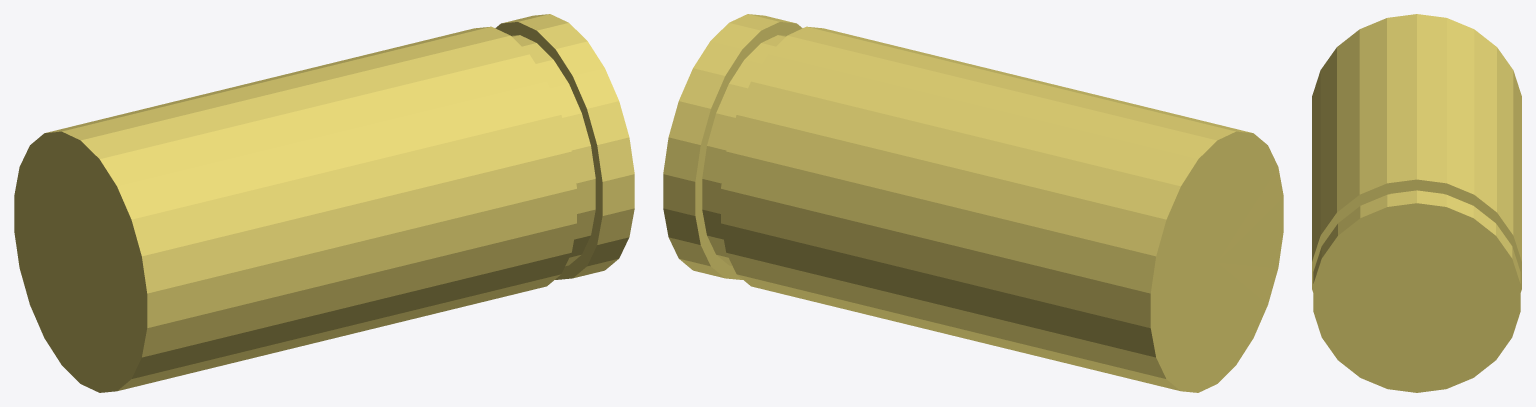
File: 9mm_Casing.fbx
3 renders of one model, left to right at view 1: azimuth 30°, elevation 25°; view 2: azimuth 150°, elevation 25°; view 3: azimuth 270°, elevation 25°, orthographic. The views are drawn at different scales.
Visible parts, largest first — view 1: Ninemm_Casing; view 2: Ninemm_Casing; view 3: Ninemm_Casing.
Part boxes in pixels (bbox=[...]): Ninemm_Casing: bbox=[14, 14, 634, 392]; Ninemm_Casing: bbox=[663, 14, 1283, 392]; Ninemm_Casing: bbox=[1312, 14, 1521, 392].
Size of the model in its own units: 0.2419 by 0.1153 by 0.1141.
